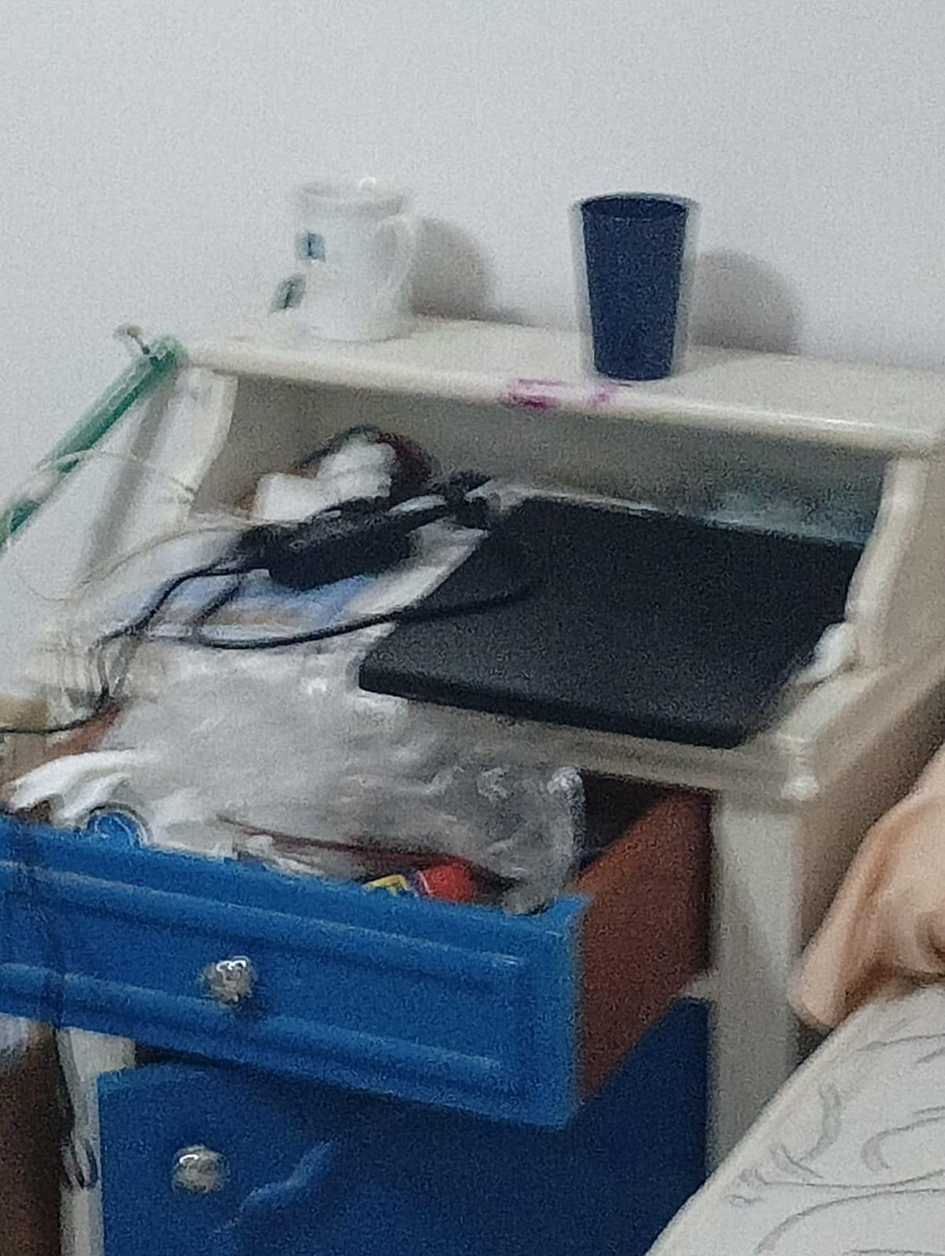cup: (578, 194, 695, 380), (297, 180, 415, 341)
